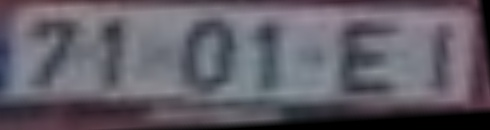0: (172, 13, 246, 106)
1: (248, 19, 287, 101), (90, 18, 128, 100)
2: (26, 18, 90, 99)
E: (337, 22, 406, 105)
I: (428, 25, 463, 101)
